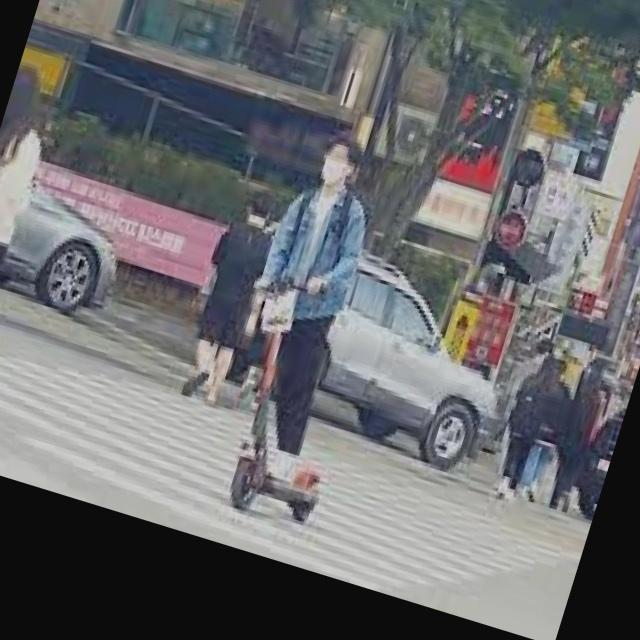bare_head: (316, 128, 372, 194)
human: (259, 126, 368, 480)
kickboard: (211, 442, 356, 555)
